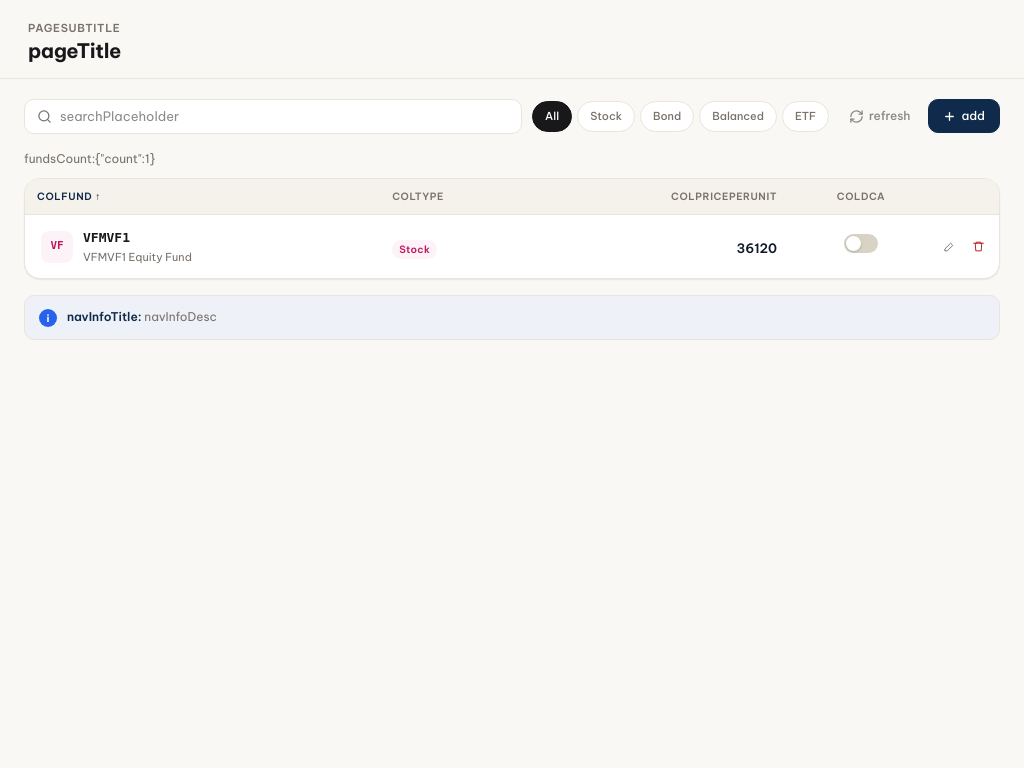
Test: DesktopFundLibraryView — delete of an in-use fund is hard-blocked with a clear message (#1) › a normal (204) delete still reloads and reports success
Click the button with test id "fund-delete-btn" at (978, 246), box [966,234,991,259]
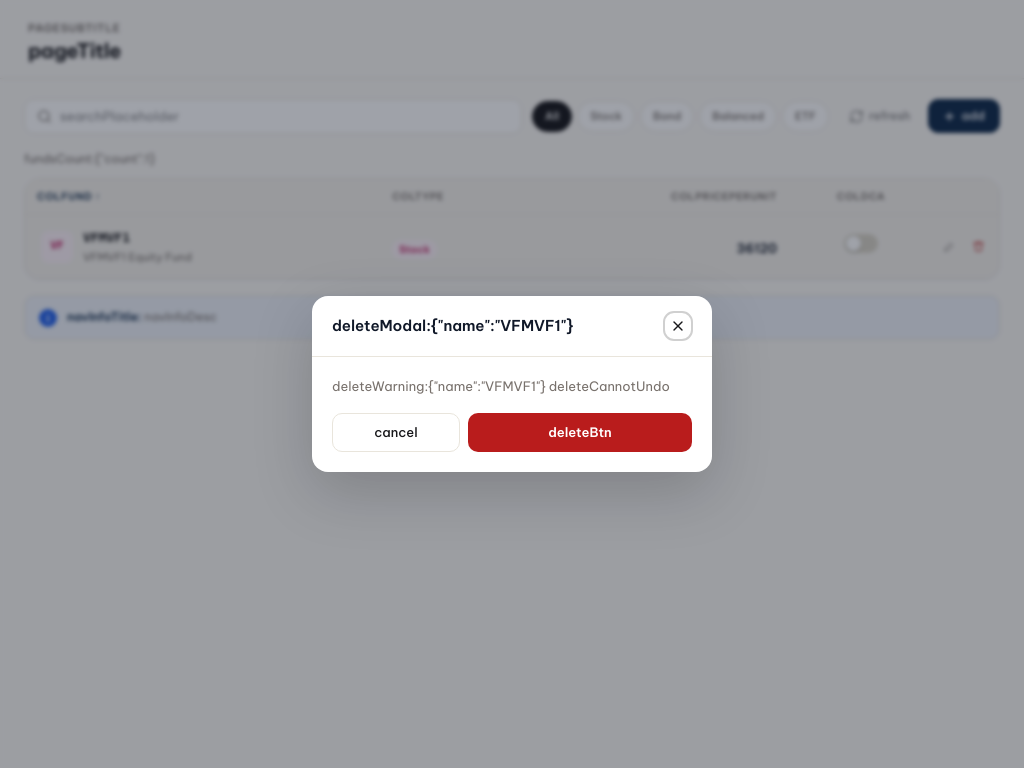
Click the button "deleteBtn" at (580, 432), box [468,412,692,452]
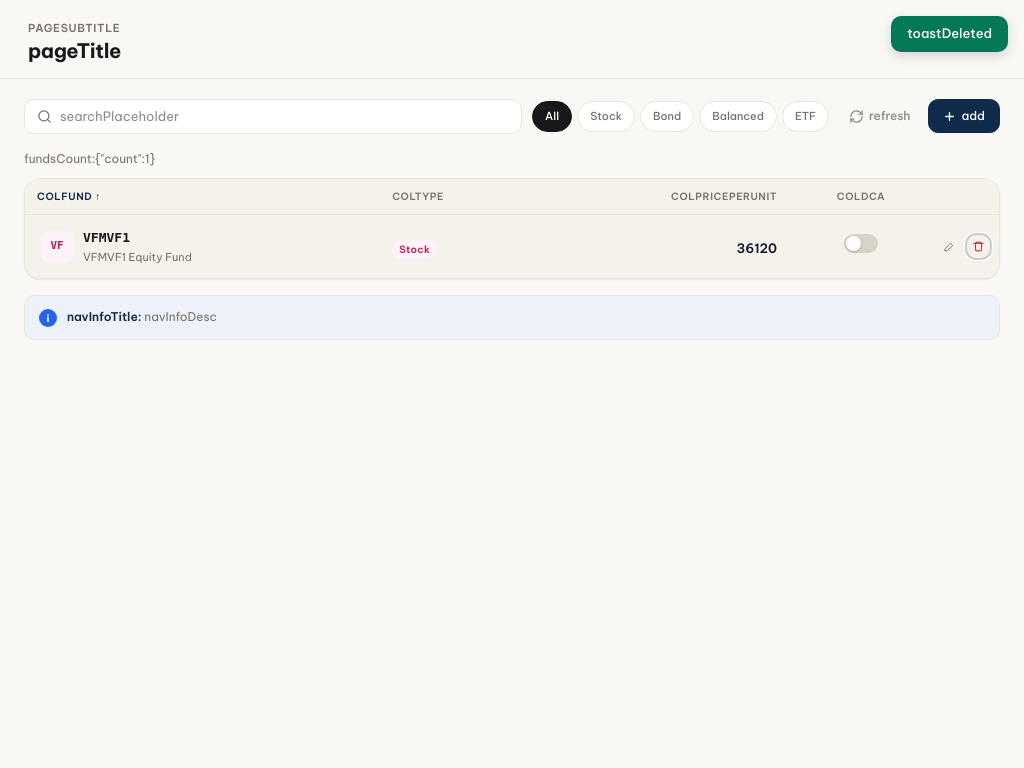
Check: the text "toastDeleted" is shown, box [891,16,1008,52]
